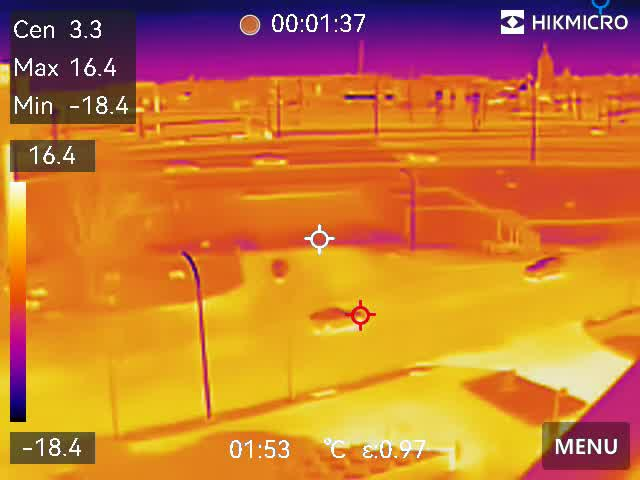heavyTruck: (155, 117, 279, 143)
largeCar: (523, 255, 570, 279)
smallCar: (306, 305, 363, 330), (249, 149, 290, 168), (268, 254, 290, 287)
vehicle: (395, 148, 439, 169), (156, 158, 204, 174), (589, 126, 609, 136)
